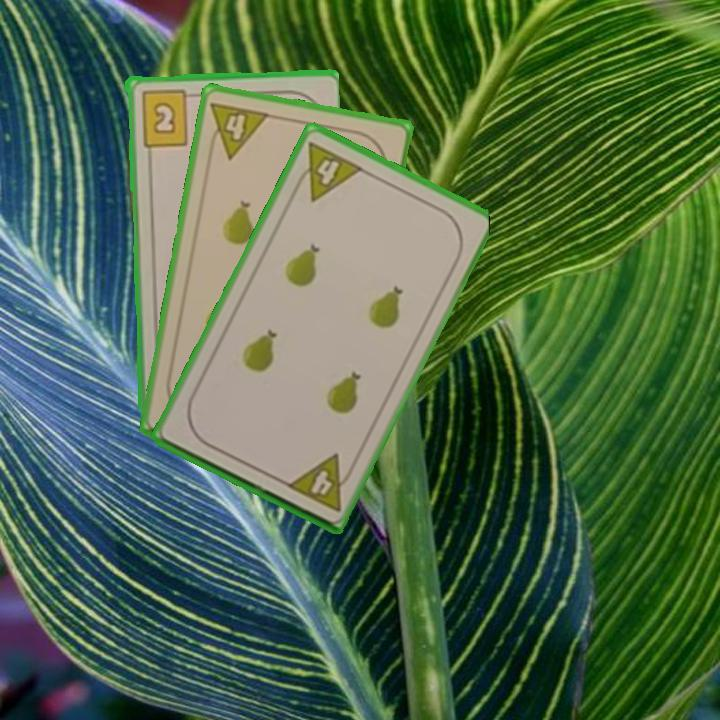2b: (137, 86, 198, 148)
4p: (289, 137, 366, 204), (282, 450, 358, 514), (204, 98, 272, 162)
